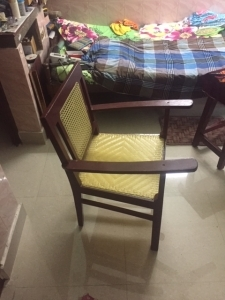chair: (41, 61, 198, 251)
